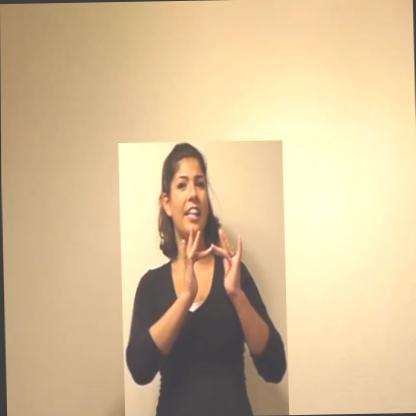Internet: (117, 139, 287, 416)
